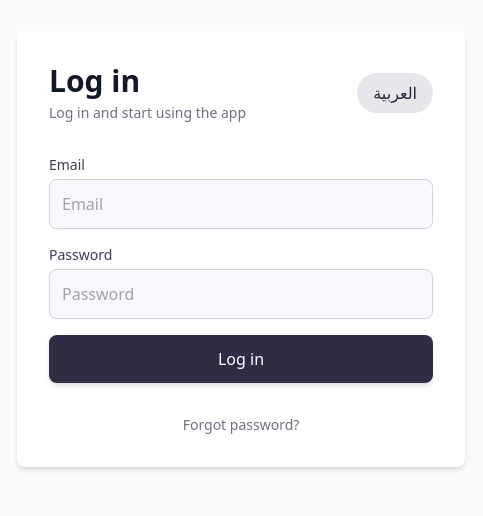
it: Login Page › displays validation errors for empty fields
Click the submit button at (241, 359), box x1=49 y1=335 x2=433 y2=383
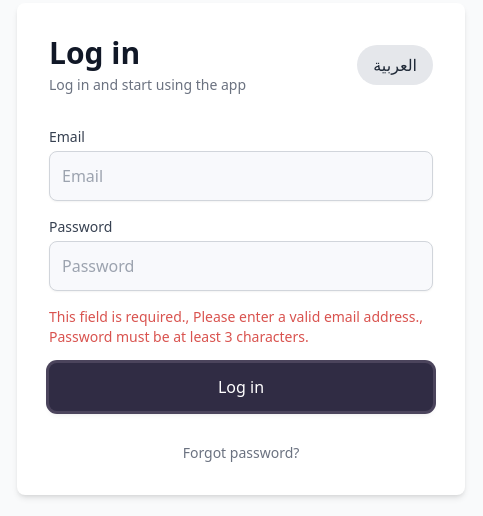
Now the text "This field is required." is shown, box x1=49 y1=307 x2=423 y2=346
